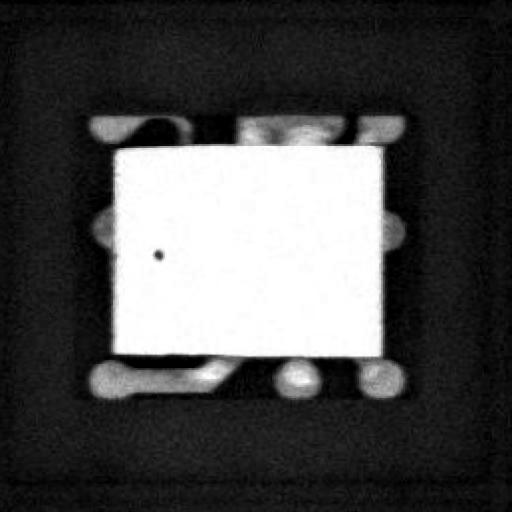DIE_INK: (140, 254, 156, 276)
